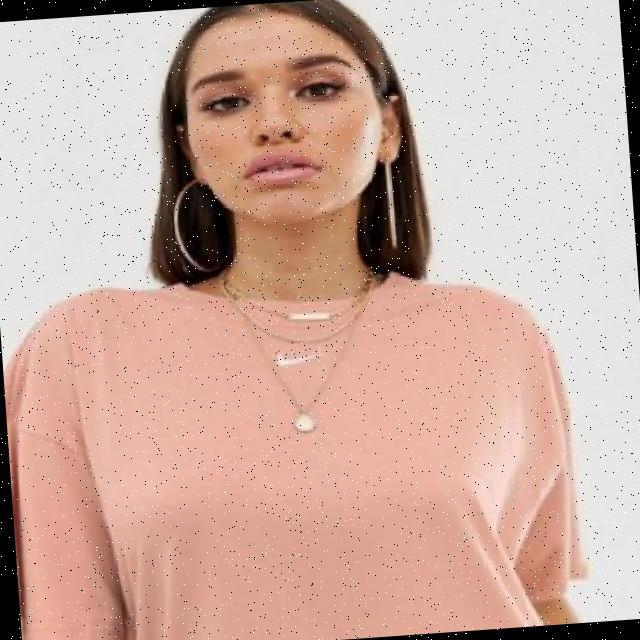Nike: (272, 346, 321, 363)
